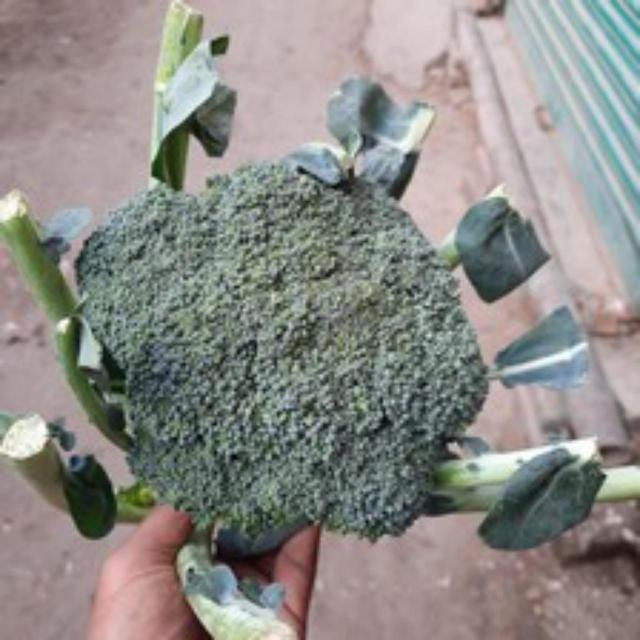broccoli: (70, 162, 486, 538)
